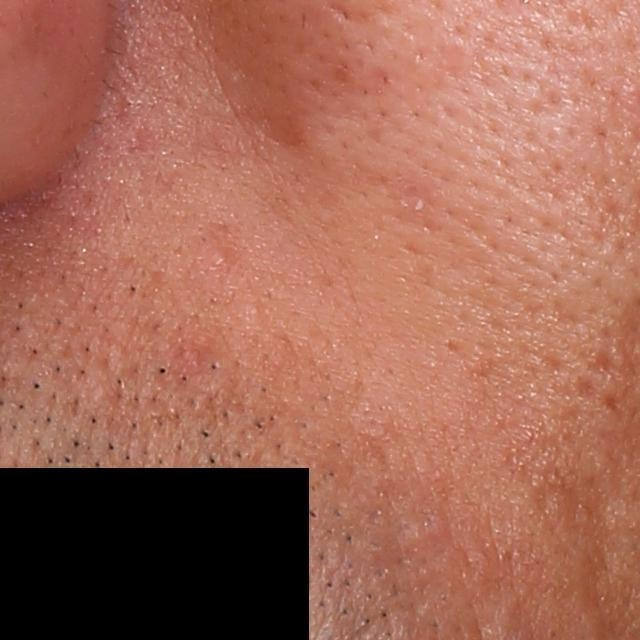atrophic_scar: (600, 66, 632, 134), (574, 373, 602, 404)
